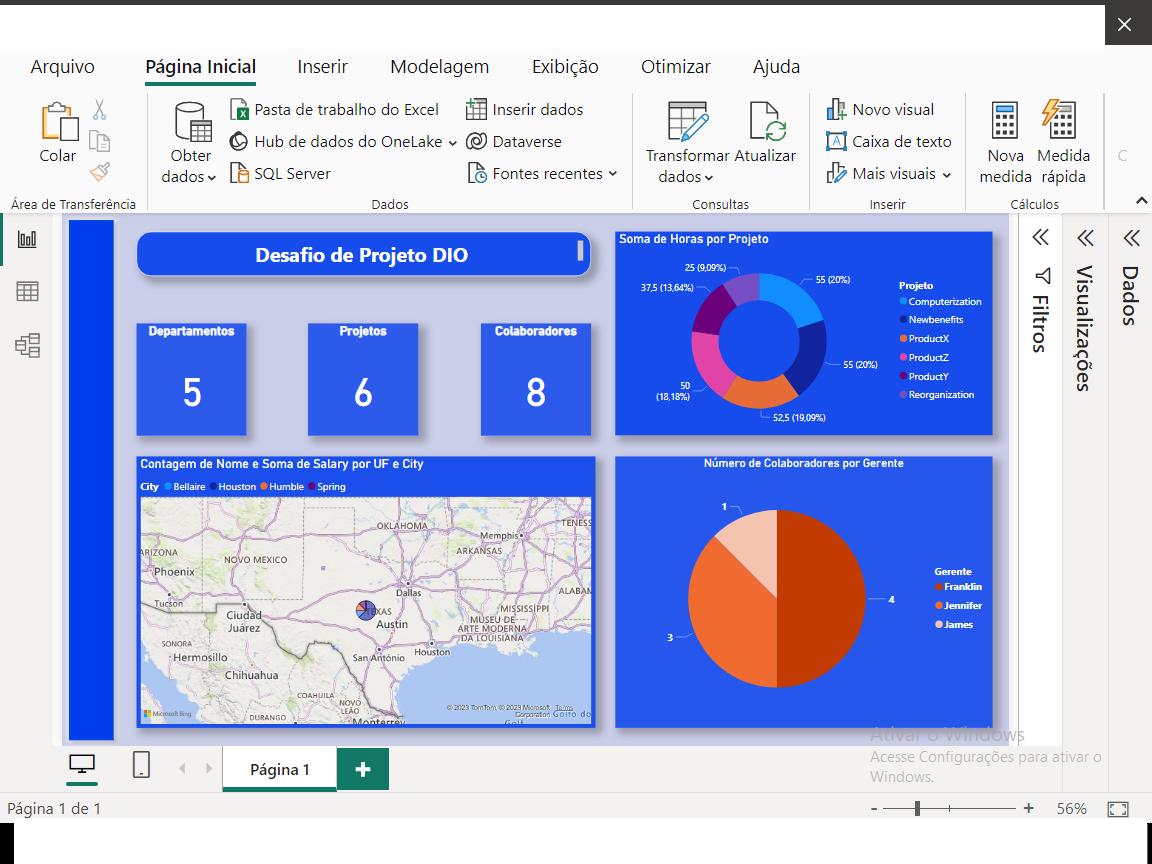

This screenshot's page, from the dashboard's own definition file:
{"tool":"powerbi","page":{"name":"Página 1","canvas":[1280,720],"ordinal":0},"visuals":[{"type":"pieChart","fields":{"Category":["colaborador_gerente.Nome_Gerente"],"Y":["CountNonNull(colaborador_gerente.Colaborador)"]},"box":[746.9,329.1,509.5,367.1],"z":0},{"type":"shape","box":[0,0,79.1,721.6],"z":1000},{"type":"map","fields":{"Category":["employee_departament.UF"],"Series":["employee_departament.City"],"Size":["CountNonNull(employee_departament.Nome)"]},"box":[101.3,329.1,620.3,367.1],"z":2000},{"type":"card","title":"Projetos","fields":{"Values":["CountNonNull(azure_company project.Pname)"]},"box":[332.3,148.7,148.7,151.9],"z":3000},{"type":"card","title":"Departamentos","fields":{"Values":["CountNonNull(azure_company dept_locations.Dlocation)"]},"box":[101.3,148.7,148.7,151.9],"z":4000},{"type":"donutChart","fields":{"Category":["azure_company project.Pname"],"Y":["Sum(azure_company works_on.Hours)"]},"box":[746.9,25.3,509.5,275.3],"z":5000},{"type":"card","title":"Colaboradores","fields":{"Values":["CountNonNull(employee_departament.Id funcionário)"]},"box":[566.5,148.7,148.7,151.9],"z":5001},{"type":"textbox","box":[101.3,25.3,614,60.1],"z":5002}]}

Visuals, with their boxes on the page's 1280x720 design canvas (x1, y1, x2, y2). These are canvas units, not pixel positions in the 1152x864 screenshot, which may show the page scaled, cropped or inside an application window:
pieChart - colaborador_gerente.Nome_Gerente x CountNonNull(colaborador_gerente.Colaborador): crop(747, 329, 1256, 696)
shape: crop(0, 0, 79, 722)
map - employee_departament.UF x employee_departament.City: crop(101, 329, 722, 696)
"Projetos" card: crop(332, 149, 481, 301)
"Departamentos" card: crop(101, 149, 250, 301)
donutChart - azure_company project.Pname x Sum(azure_company works_on.Hours): crop(747, 25, 1256, 301)
"Colaboradores" card: crop(566, 149, 715, 301)
textbox: crop(101, 25, 715, 85)
